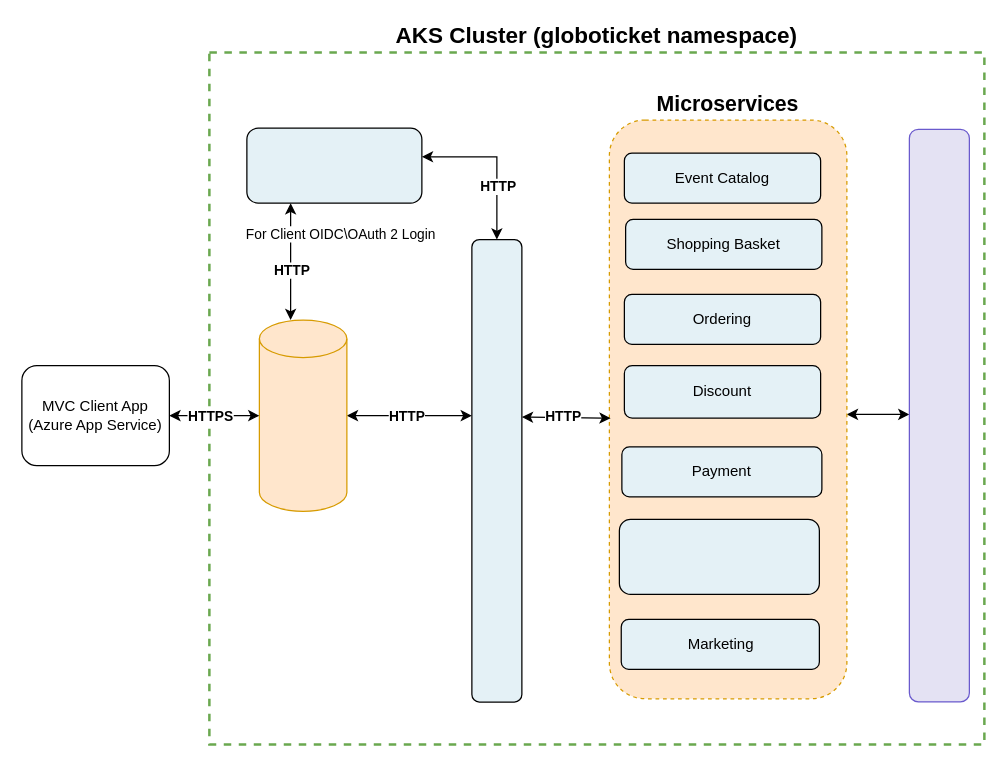
The diagram is 1008 pixels wide and 768 high, and some of its shapes have lost their labels. The centre of each missing label's shape, as x and y in pixels:
AKS Load Balancer: point (302, 415)
Azure Service Bus: point (938, 415)
Duende IdentityServer IDP: point (334, 165)
External Payment Gateway (Integration to 3rd Party Payment System): point (718, 556)
Ocelot API Gateway: point (496, 470)
